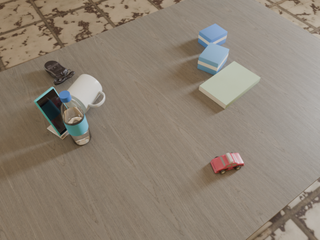book: (199, 61, 260, 109)
bottle: (59, 91, 91, 145)
box: (198, 42, 229, 75), (198, 24, 227, 48)
cup: (67, 74, 105, 114)
mouse: (44, 61, 75, 86)
phone: (34, 87, 67, 135)
toy_car: (211, 153, 244, 174)
